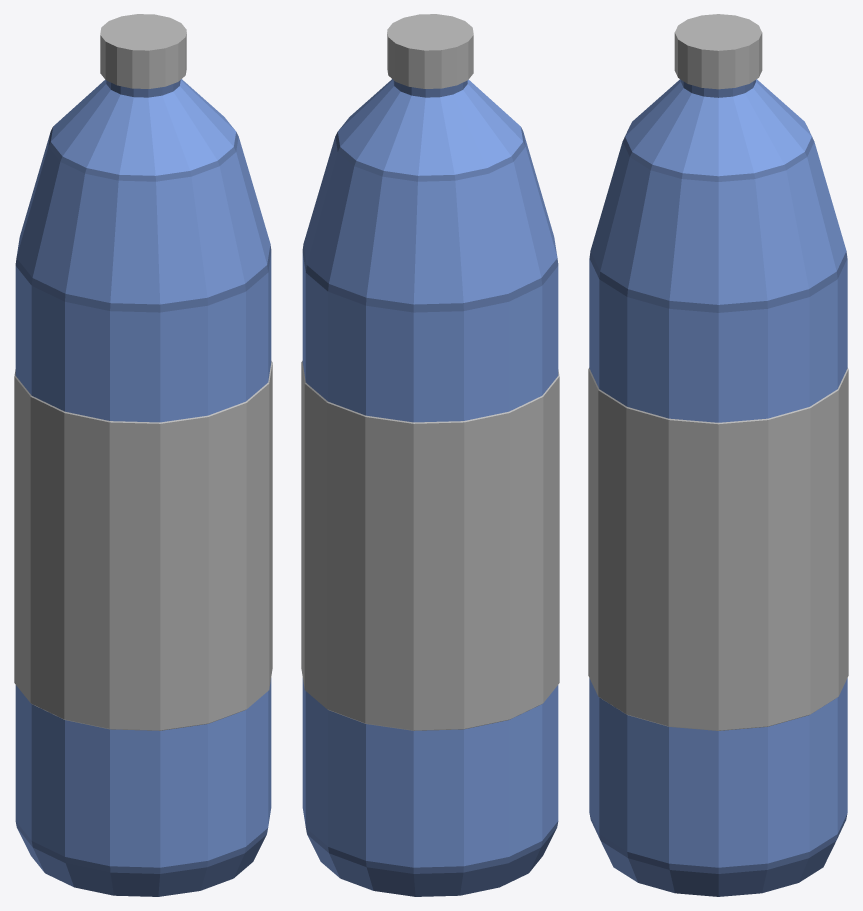
File: BottleOfWater.fbx
The picture shows the model from 3 angles, left to right: view 1: azimuth 30°, elevation 25°; view 2: azimuth 150°, elevation 25°; view 3: azimuth 270°, elevation 25°; orthographic projection.
Parts seen in each view (by area): view 1: BottleOfWater; view 2: BottleOfWater; view 3: BottleOfWater.
Boxes of the visible parts, x1,y1,x2,y2 form: BottleOfWater: (14,14,272,896); BottleOfWater: (301,14,559,896); BottleOfWater: (588,14,848,896).
Bounding box in the file's own units: 202 × 698 × 202.
